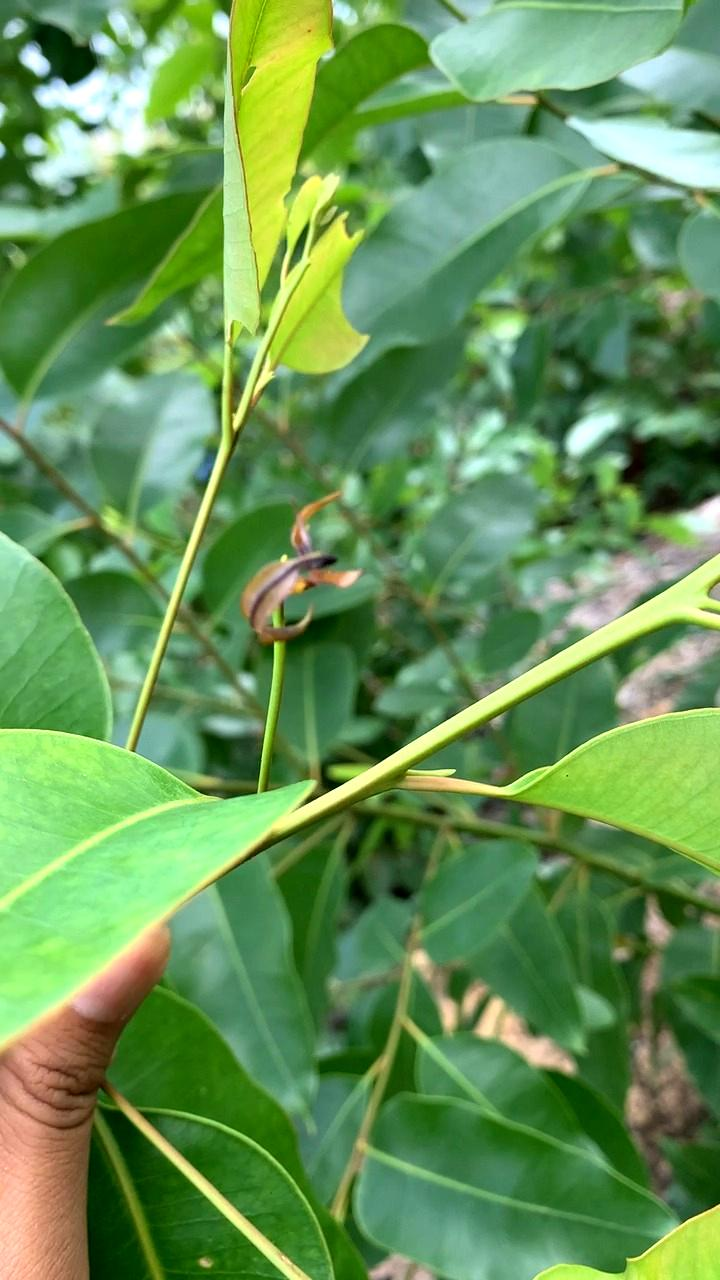Helopeltis-Withered Sprout: (228, 498, 377, 644)
